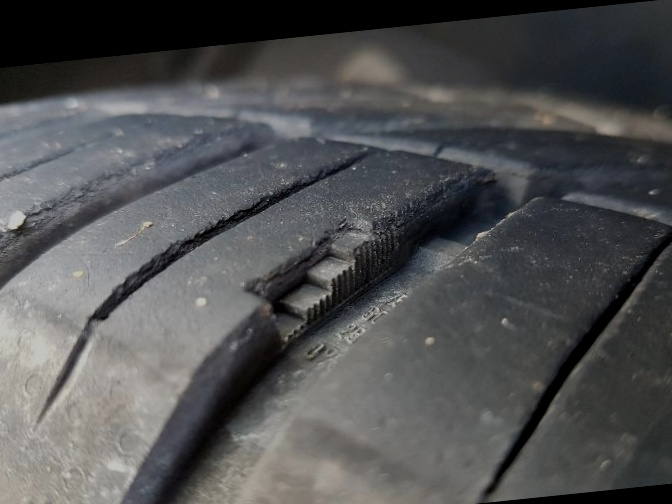temoin:90: (229, 194, 426, 366)
